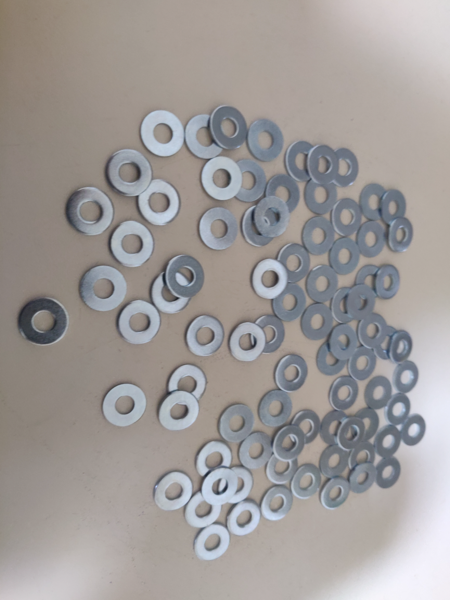circle: (18, 297, 69, 346), (66, 188, 114, 236), (105, 150, 154, 196), (78, 267, 127, 312), (110, 221, 154, 269), (141, 111, 185, 157), (117, 300, 161, 345), (136, 181, 181, 225), (103, 382, 146, 428), (200, 156, 242, 201), (184, 115, 226, 159), (165, 255, 205, 299), (151, 270, 191, 314), (185, 314, 225, 357), (152, 471, 193, 512), (157, 391, 199, 431), (199, 208, 238, 251), (167, 364, 207, 405), (211, 107, 248, 150), (252, 197, 291, 237), (248, 119, 284, 162), (231, 160, 266, 204), (228, 322, 266, 362), (252, 258, 288, 300), (242, 205, 278, 247), (265, 175, 301, 216), (275, 244, 311, 284), (195, 442, 233, 479), (184, 492, 221, 530), (194, 523, 230, 562), (250, 315, 286, 354), (285, 143, 320, 183), (201, 468, 238, 505), (218, 466, 254, 504), (219, 404, 254, 443), (275, 284, 310, 323), (304, 177, 339, 216), (258, 390, 293, 428), (302, 217, 336, 256), (240, 433, 274, 471), (274, 354, 308, 392), (306, 265, 340, 303), (307, 145, 340, 184), (327, 148, 359, 188), (227, 500, 261, 537), (300, 304, 334, 341), (329, 238, 362, 276), (260, 486, 293, 523), (265, 449, 298, 485), (273, 426, 306, 462), (317, 340, 348, 377), (329, 324, 359, 361), (332, 200, 362, 237), (361, 184, 390, 222), (290, 466, 323, 499), (320, 445, 352, 479), (290, 409, 321, 444), (331, 288, 361, 324), (346, 285, 376, 321), (370, 325, 400, 361), (320, 410, 350, 446), (320, 476, 351, 510), (357, 314, 387, 349), (329, 377, 359, 411), (356, 265, 385, 300), (358, 222, 387, 257), (350, 346, 379, 381), (380, 190, 407, 227), (350, 409, 380, 442), (364, 376, 393, 410), (387, 217, 414, 253), (337, 418, 366, 451), (375, 264, 400, 301), (350, 462, 378, 495), (349, 442, 376, 475), (393, 362, 420, 394), (385, 394, 411, 426), (401, 415, 427, 447), (375, 426, 401, 458), (389, 331, 413, 364), (376, 458, 401, 489)
